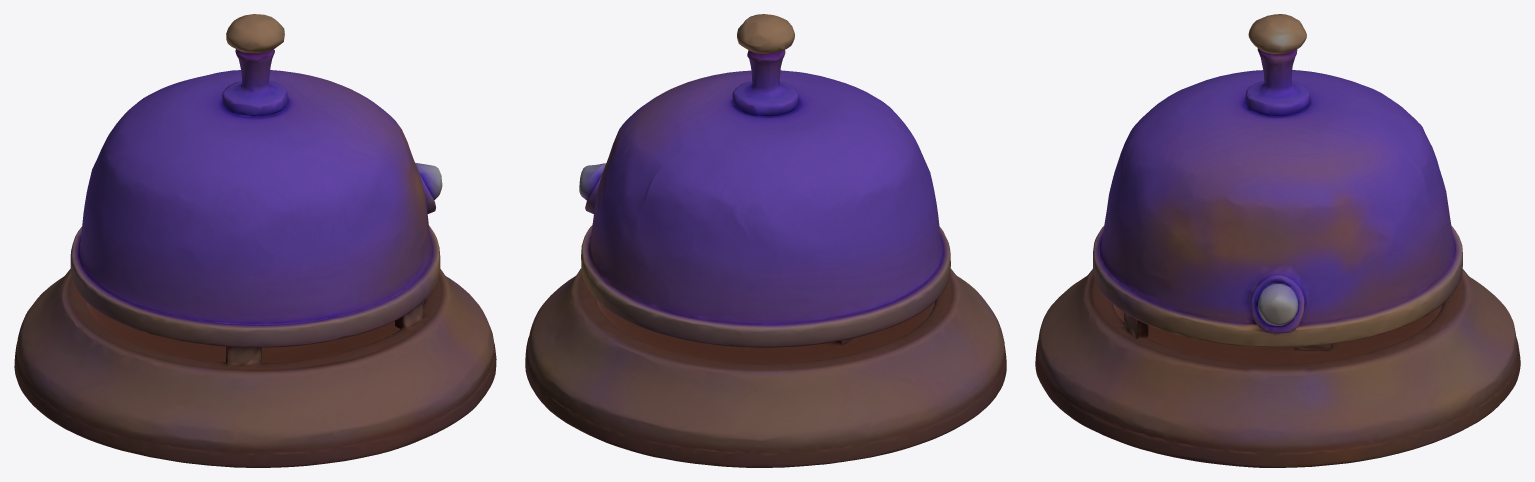
Rendered from theme-hotel-service-bell-v05.glb.
3 views of the same model, side by side, from view 1: azimuth 30°, elevation 25°; view 2: azimuth 150°, elevation 25°; view 3: azimuth 270°, elevation 25° (orthographic).
Visible parts, largest first — view 1: tripo_node_c21f9747-e69c-4ebc-a4f1-8a4576f5660d; view 2: tripo_node_c21f9747-e69c-4ebc-a4f1-8a4576f5660d; view 3: tripo_node_c21f9747-e69c-4ebc-a4f1-8a4576f5660d.
Boxes of the visible parts, left/top/right/bottom form: tripo_node_c21f9747-e69c-4ebc-a4f1-8a4576f5660d: left=14, top=14, right=496, bottom=467; tripo_node_c21f9747-e69c-4ebc-a4f1-8a4576f5660d: left=525, top=14, right=1006, bottom=467; tripo_node_c21f9747-e69c-4ebc-a4f1-8a4576f5660d: left=1035, top=14, right=1520, bottom=467.
Bounding box in the file's own units: 0.1251 × 0.1 × 0.1253.
Materials: 1 (1 with a texture image).
